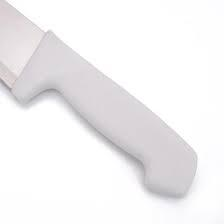Knife: (0, 0, 198, 198)
